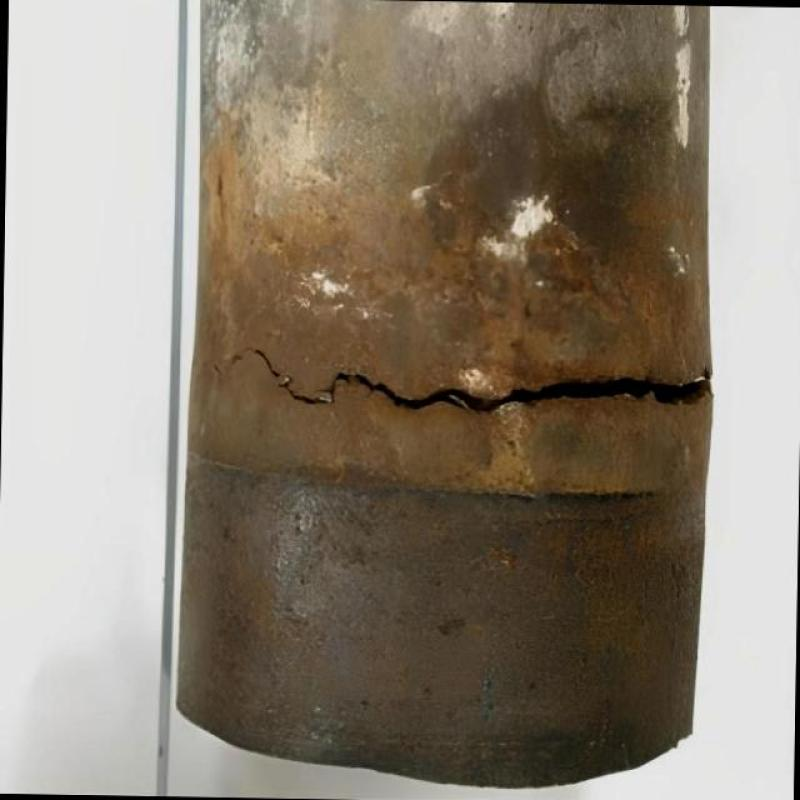Fracture: (274, 359, 736, 422)
